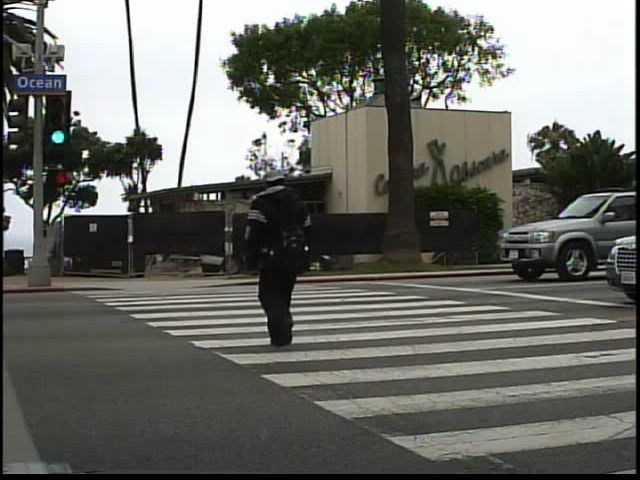person: (230, 163, 331, 355)
